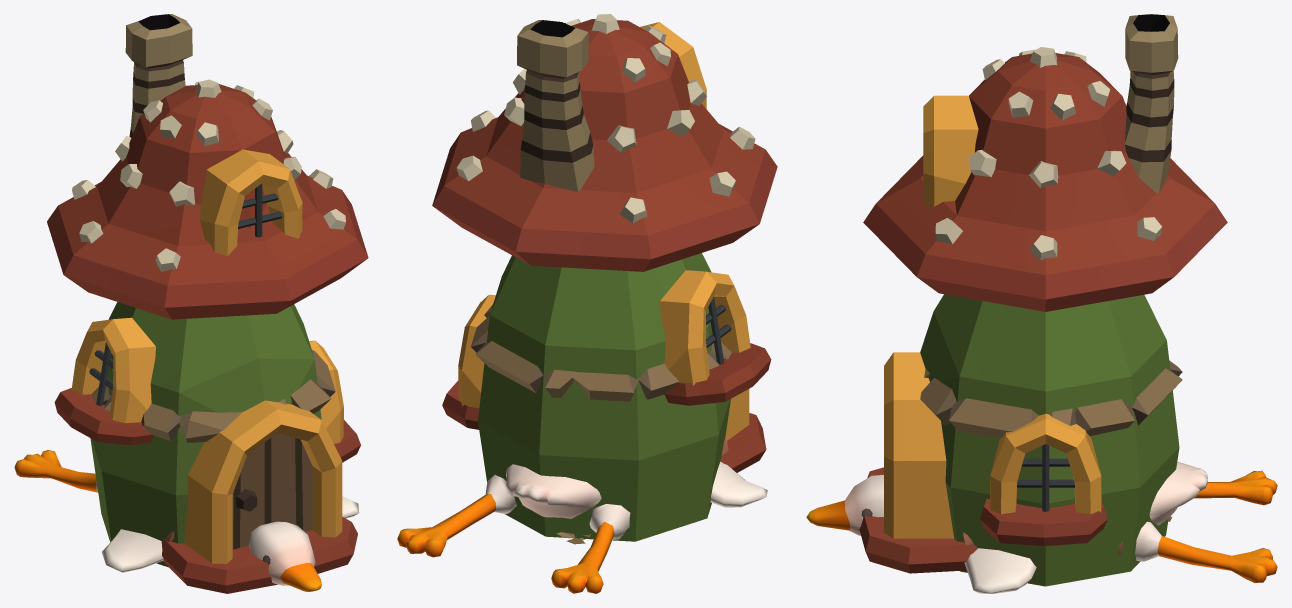
The model's file is extras.glb.
The picture shows the model from 3 angles, left to right: view 1: azimuth 30°, elevation 25°; view 2: azimuth 150°, elevation 25°; view 3: azimuth 270°, elevation 25°; orthographic projection. The views are drawn at different scales.
Parts seen in each view (by area): view 1: SM_Prop_MushroomHouse_01, goose, SM_Prop_Birdhouse_01; view 2: SM_Prop_MushroomHouse_01, goose, SM_Prop_Birdhouse_01; view 3: SM_Prop_MushroomHouse_01, goose, SM_Prop_Birdhouse_01.
Part boxes in pixels (left/top/right/bottom): SM_Prop_MushroomHouse_01: left=47, top=14, right=368, bottom=593; goose: left=14, top=450, right=359, bottom=591; SM_Prop_Birdhouse_01: left=91, top=350, right=335, bottom=442; SM_Prop_MushroomHouse_01: left=432, top=14, right=777, bottom=541; goose: left=397, top=461, right=767, bottom=593; SM_Prop_Birdhouse_01: left=471, top=304, right=731, bottom=401; SM_Prop_MushroomHouse_01: left=859, top=14, right=1227, bottom=586; goose: left=806, top=461, right=1277, bottom=593; SM_Prop_Birdhouse_01: left=920, top=360, right=1182, bottom=438.
Bounding box in the file's own units: 1.68 × 2.6 × 2.17.
7 materials, 7 textured.
